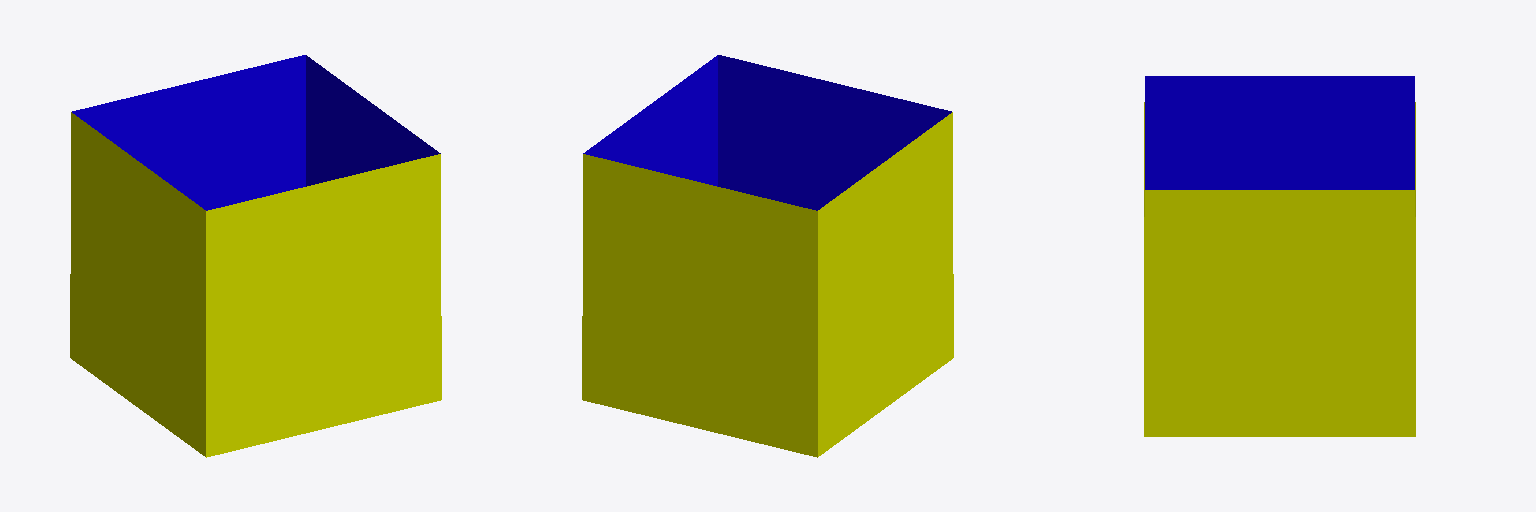
File: box_old.obj
3 views of the same model, side by side, from view 1: azimuth 30°, elevation 25°; view 2: azimuth 150°, elevation 25°; view 3: azimuth 270°, elevation 25° (orthographic).
Visible parts, largest first — view 1: Box001; view 2: Box001; view 3: Box001.
Boxes of the visible parts, box(x1,y1,x2,y2) form: Box001: box(70, 55, 441, 457); Box001: box(582, 55, 953, 457); Box001: box(1144, 76, 1415, 436).
Size of the model in its own units: 5.08 by 5.08 by 5.08.